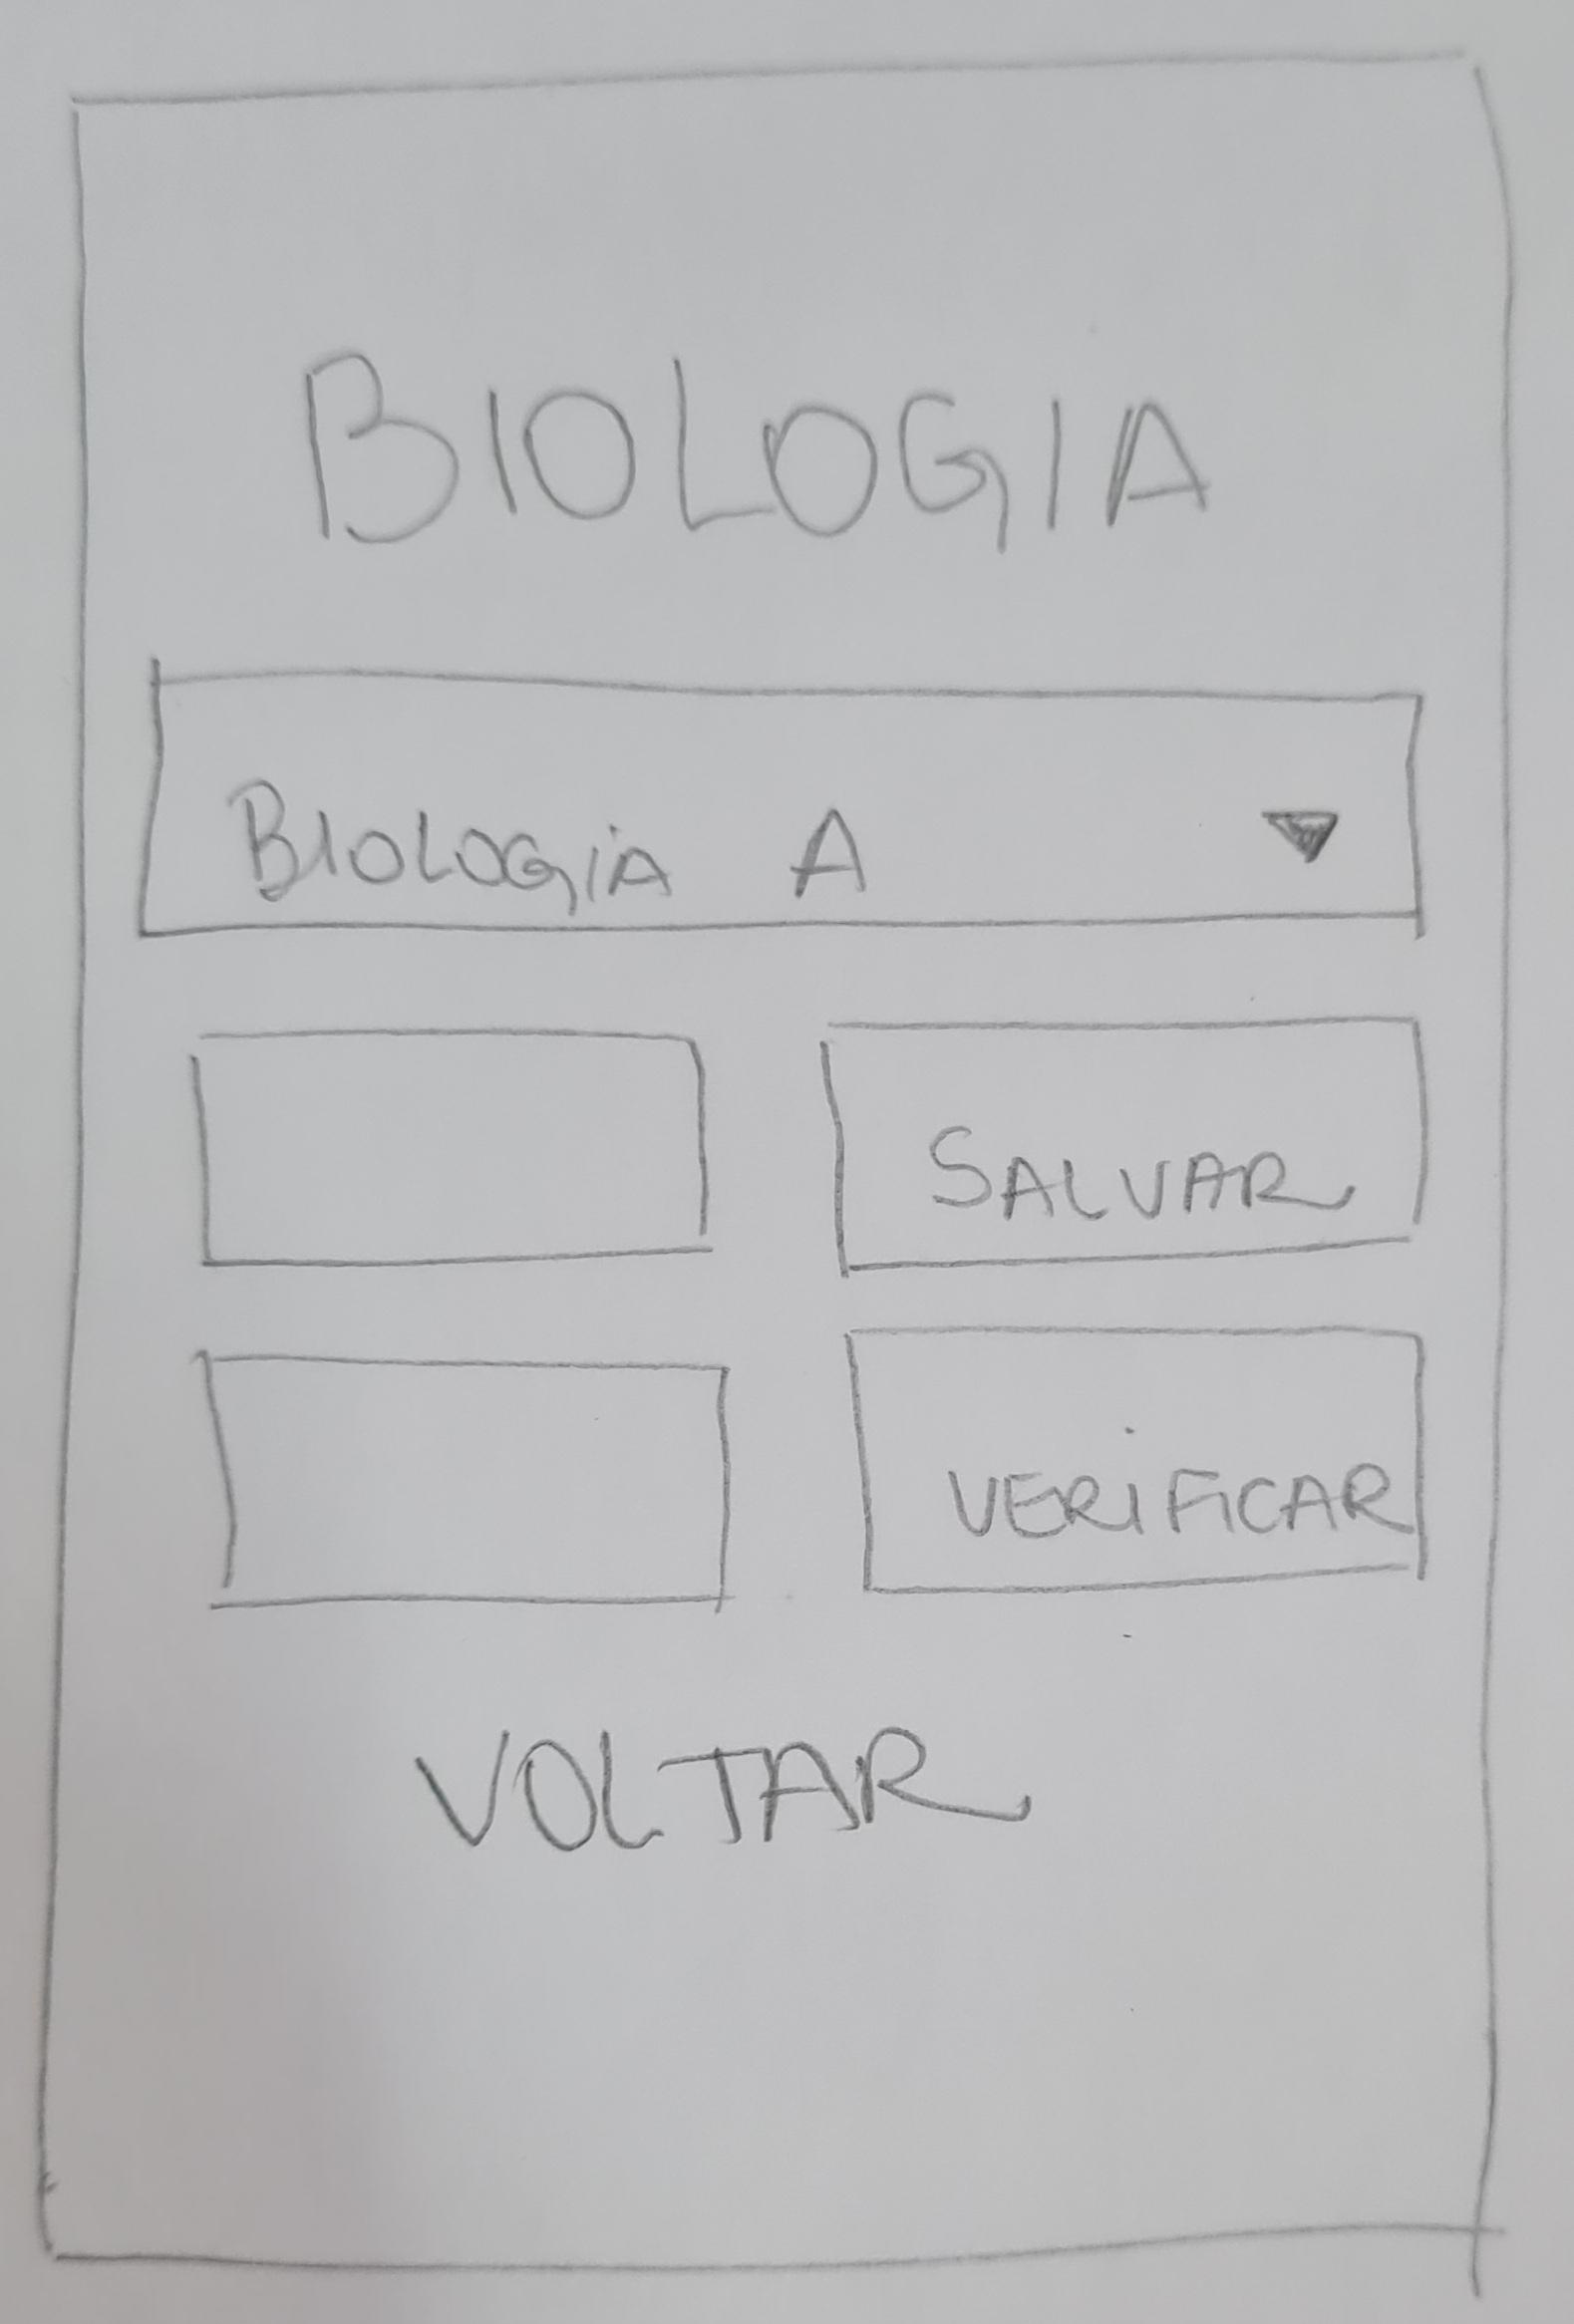Button: (822, 1016, 1432, 1276), (845, 1323, 1426, 1596)
Label: (304, 346, 1212, 546), (408, 1727, 1031, 1847)
ListPicker: (135, 660, 1423, 939)
Screen: (35, 49, 1514, 2273)
TextBox: (197, 1350, 733, 1617), (186, 1027, 710, 1267)
